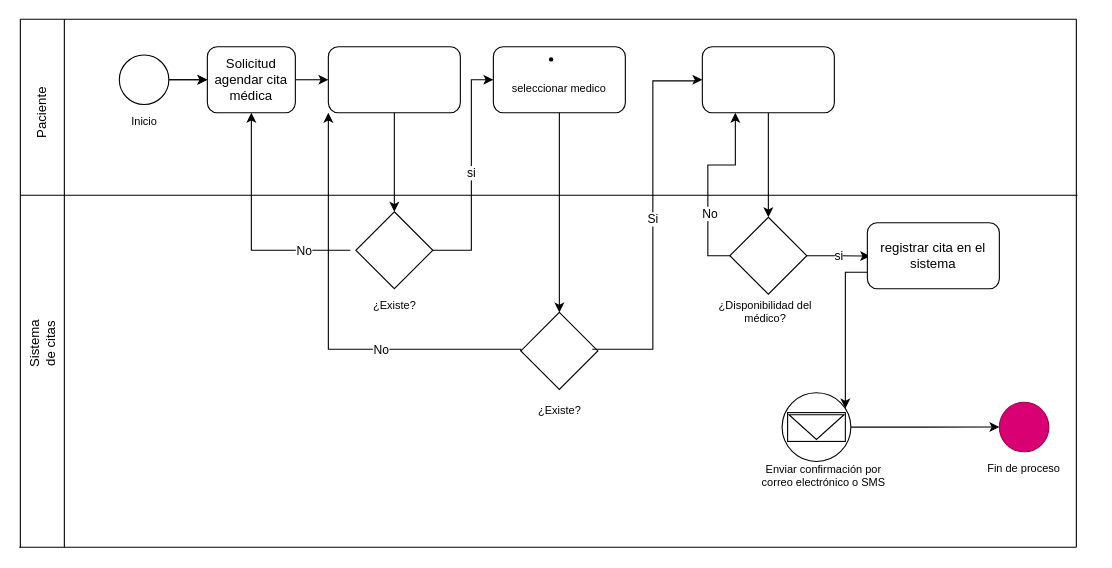
Image size: 1112x568. Some labels were removed from this diagram. The centre of each missing label's shape, as x and y in pixels:
"Seleccionar especialidad médica" belongs at pixel 393 79.
"seleccionar fecha y hora" belongs at pixel 767 79.
